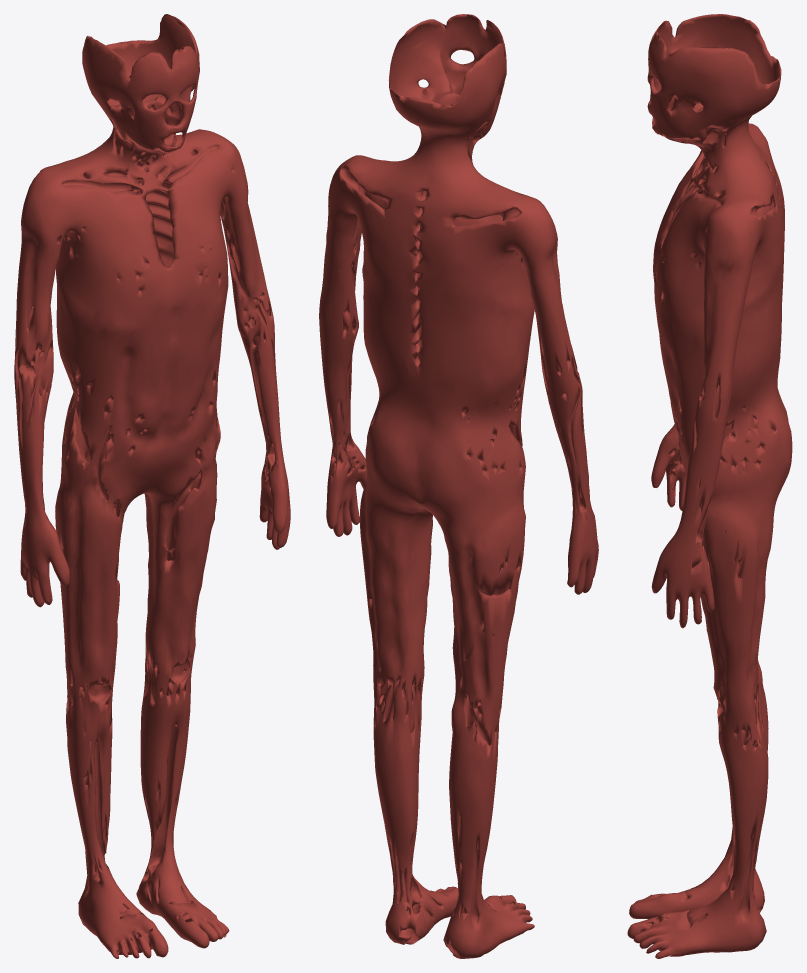
The model's file is pediatric_child_10y_male.muscular.LOD0.glb.
3 renders of one model, left to right at view 1: azimuth 30°, elevation 25°; view 2: azimuth 150°, elevation 25°; view 3: azimuth 270°, elevation 25°, orthographic.
Parts seen in each view (by area): view 1: PEDIATRIC.CHILD_10Y.MALE.MUSCULAR.MUSCLE; view 2: PEDIATRIC.CHILD_10Y.MALE.MUSCULAR.MUSCLE; view 3: PEDIATRIC.CHILD_10Y.MALE.MUSCULAR.MUSCLE.
Boxes of the visible parts, <box> form: PEDIATRIC.CHILD_10Y.MALE.MUSCULAR.MUSCLE: <box>14,14,290,958</box>; PEDIATRIC.CHILD_10Y.MALE.MUSCULAR.MUSCLE: <box>319,14,598,958</box>; PEDIATRIC.CHILD_10Y.MALE.MUSCULAR.MUSCLE: <box>627,14,792,958</box>.
Bounding box in the file's own units: 0.4049 × 1.35 × 0.2235.
